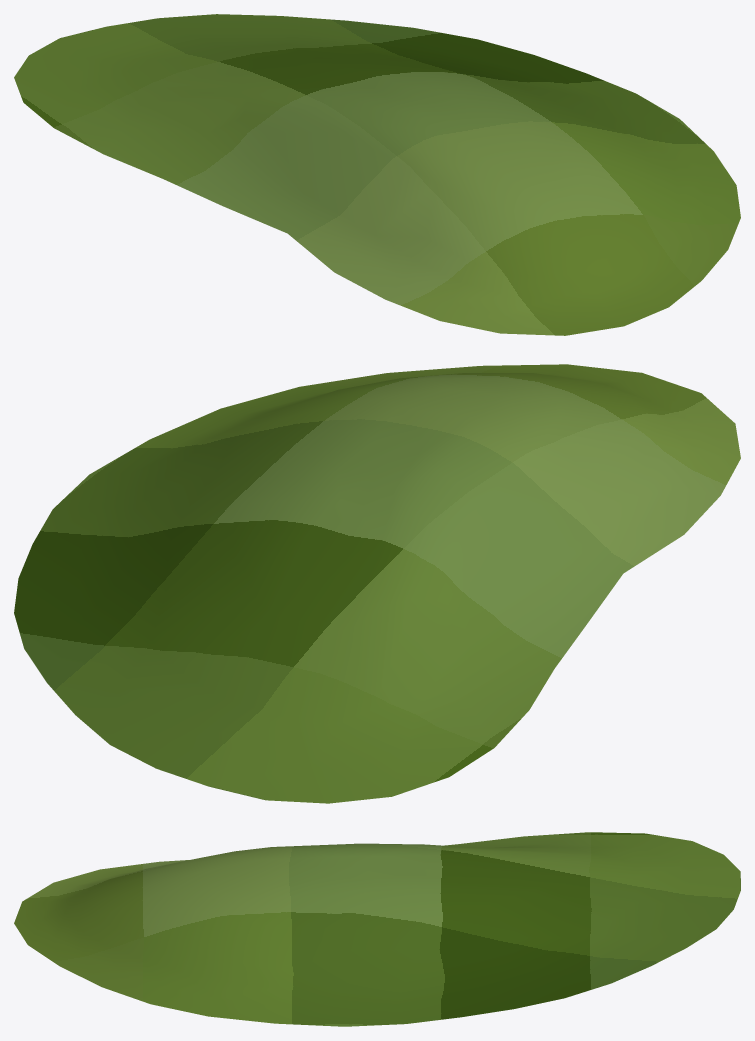
Rendered from GardenlLump01a.fbx.
The picture shows the model from 3 angles, top to bottom: view 1: azimuth 30°, elevation 25°; view 2: azimuth 150°, elevation 25°; view 3: azimuth 270°, elevation 25°; orthographic projection. The views are drawn at different scales.
Parts seen in each view (by area): view 1: GardenlLump01a; view 2: GardenlLump01a; view 3: GardenlLump01a.
Boxes of the visible parts, box(x1,y1,x2,y2) form: GardenlLump01a: box(14, 14, 740, 335); GardenlLump01a: box(14, 364, 740, 803); GardenlLump01a: box(14, 832, 740, 1026).
Bounding box in the file's own units: 2.09 × 0.316 × 3.3.
